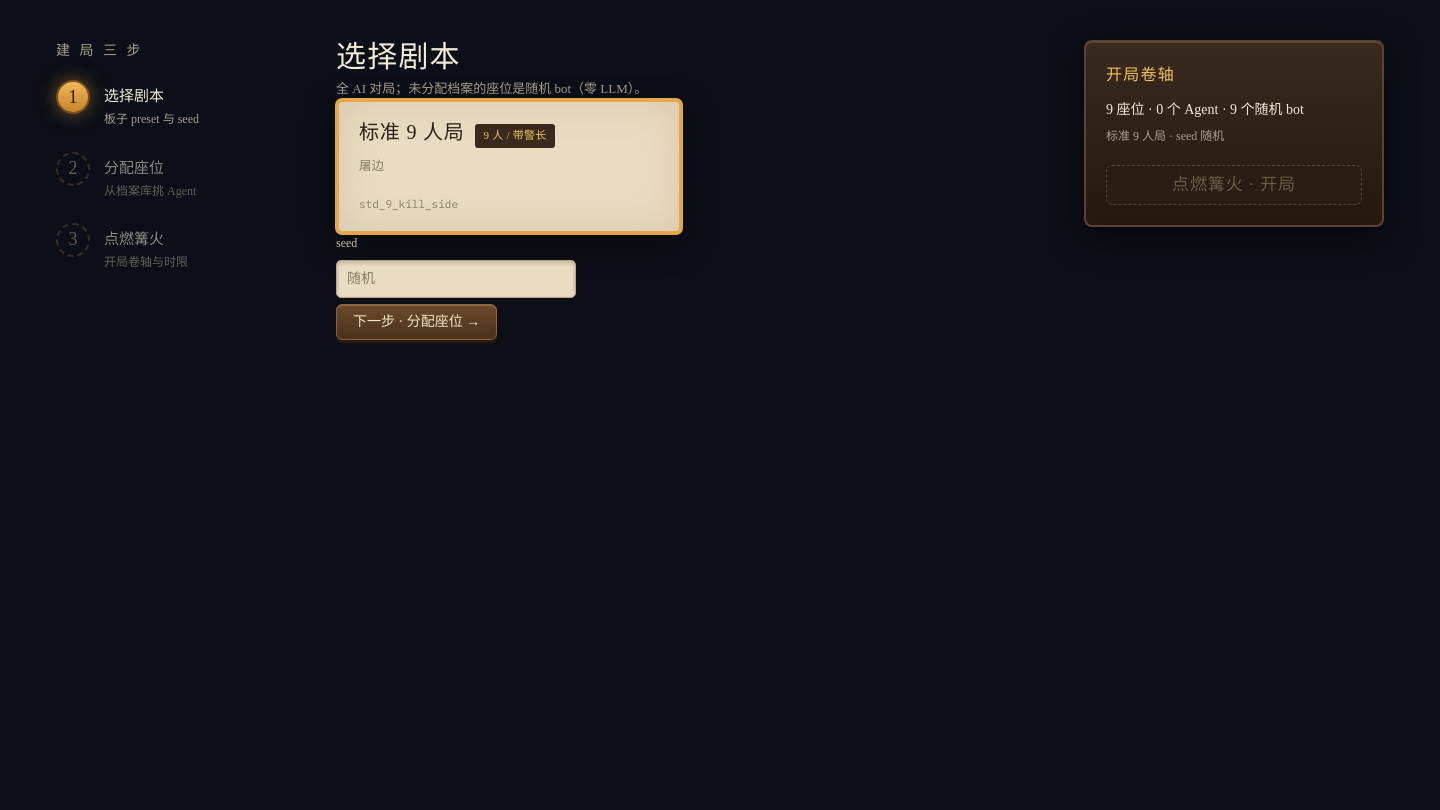
Scenario: Lobby 我自己入座（issue #115） › 失败后「点燃篝火 · 开局」禁用，删除后恢复
The width and height of the screenshot is (1440, 810).
Expected: the heading "标准 9 人局" is shown, [359,120,465,144]
Click the button "下一步 · 分配座位 →". click: coordinates (417, 322)
box: [336,304,497,340]
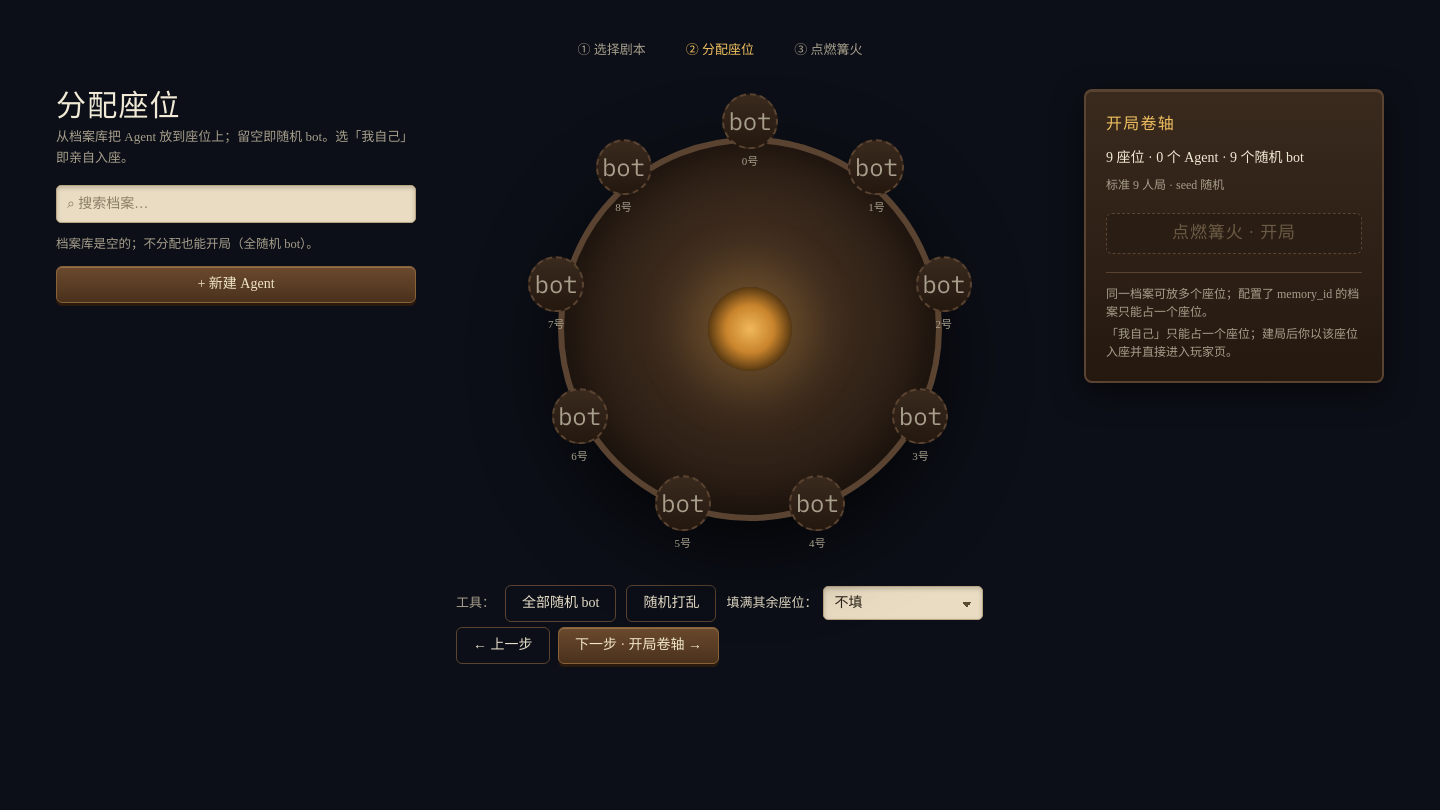
Click the button with aria-label "入座 3号". click: coordinates (920, 427)
box: [884,388,956,466]
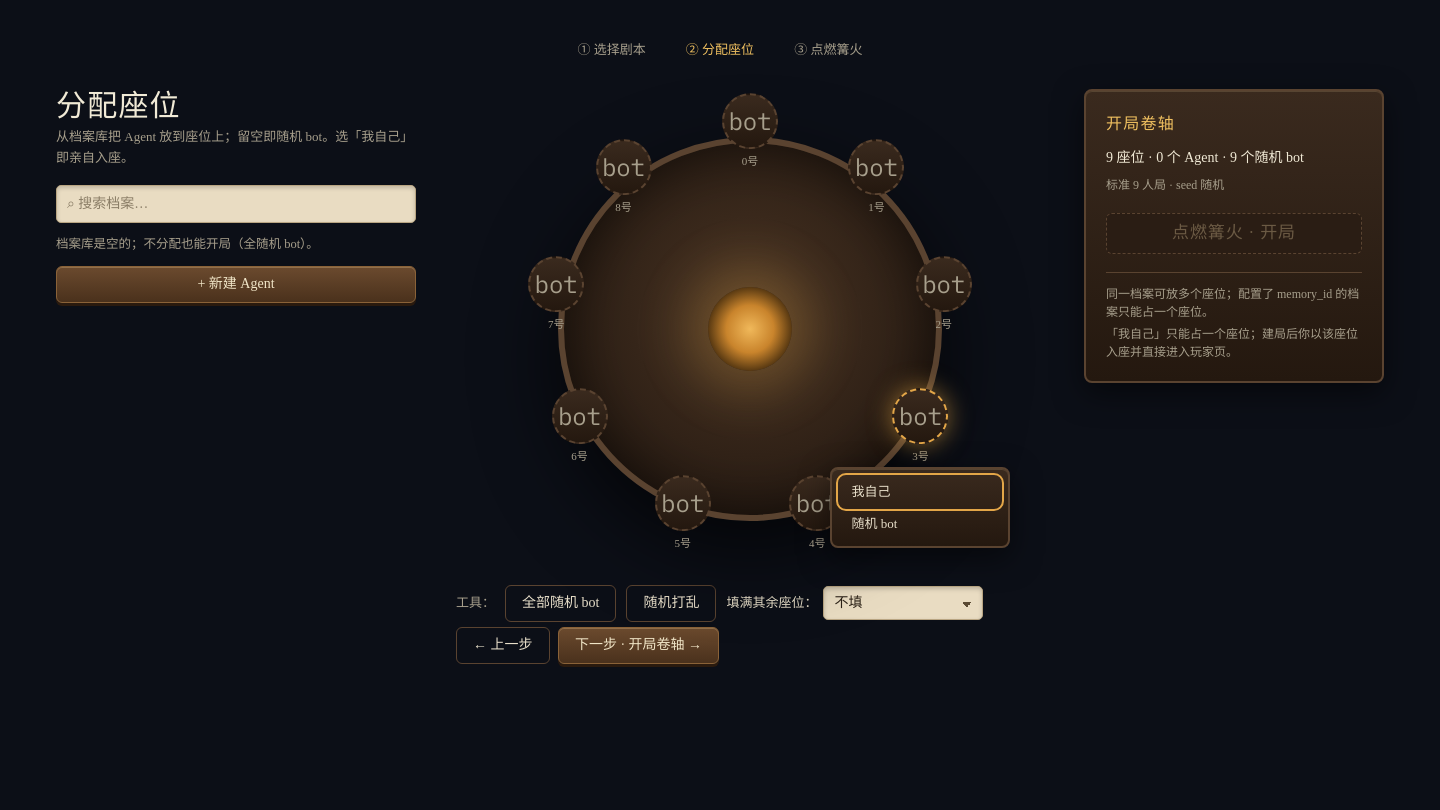
Click the menu item "我自己". click: coordinates (920, 492)
box: [840,477,1000,507]
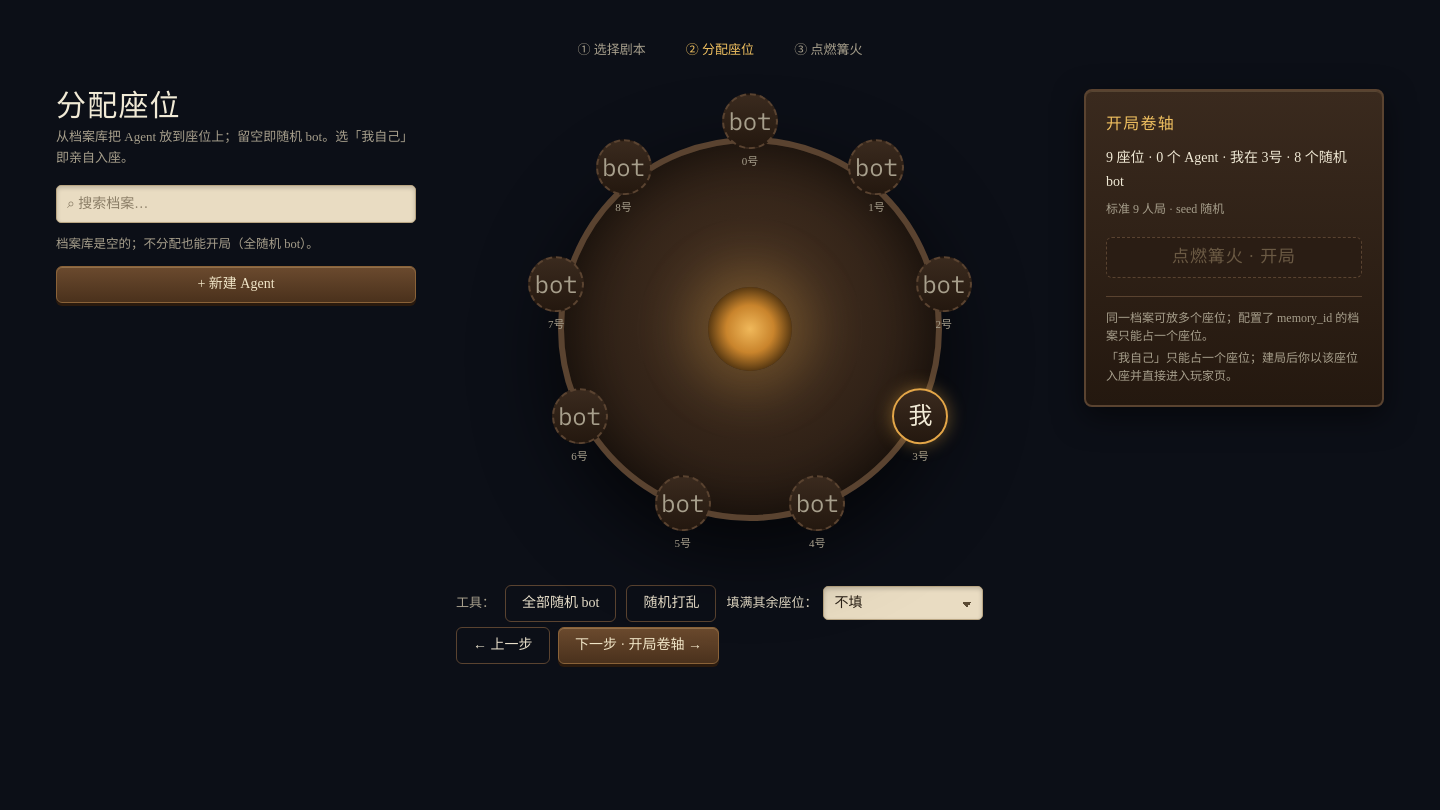
Click the button "下一步 · 开局卷轴 →". click: coordinates (638, 646)
box: [558,627,719,664]
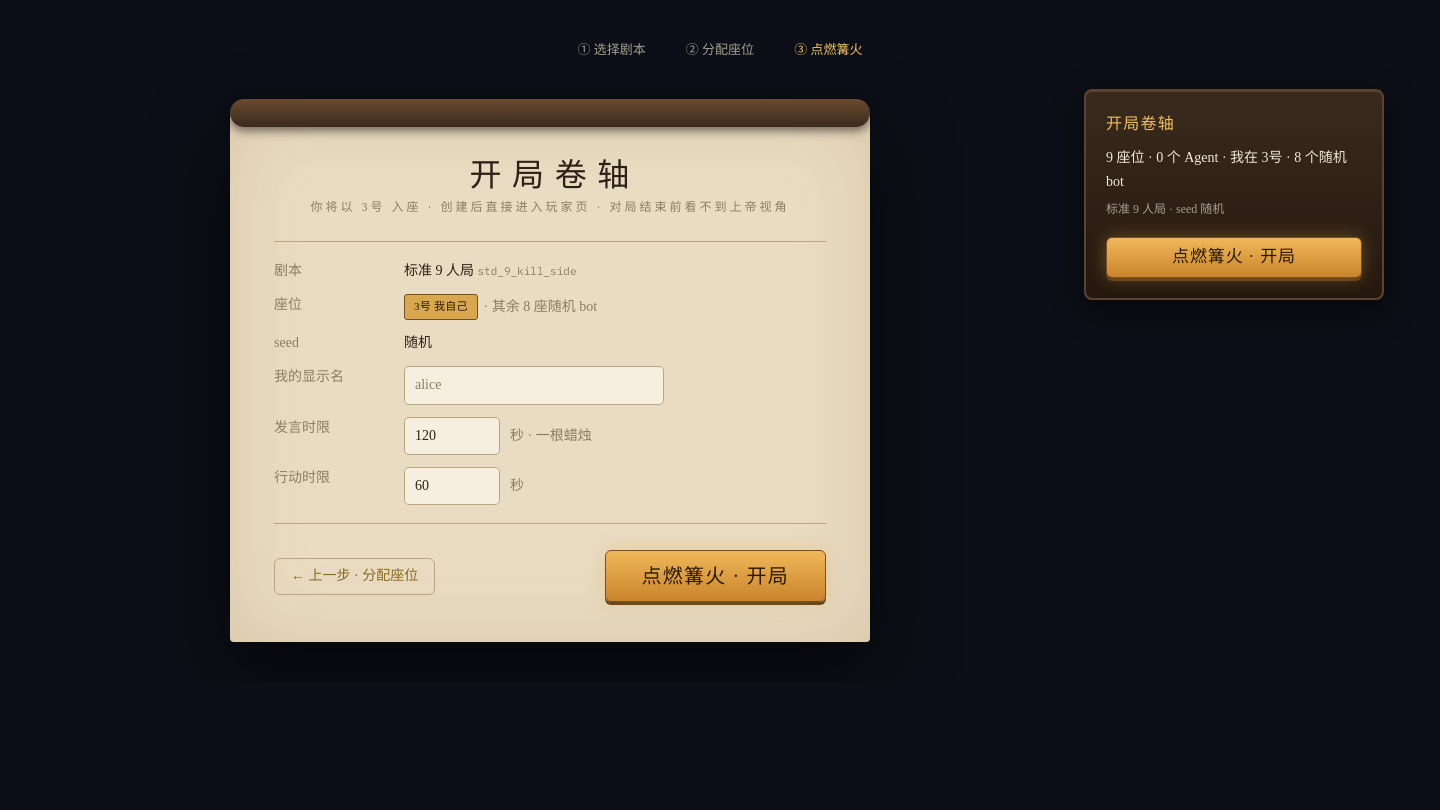
Click the button "点燃篝火 · 开局" below "秒 · 一根蜡烛". click: coordinates (715, 576)
box: [604,550,826,602]
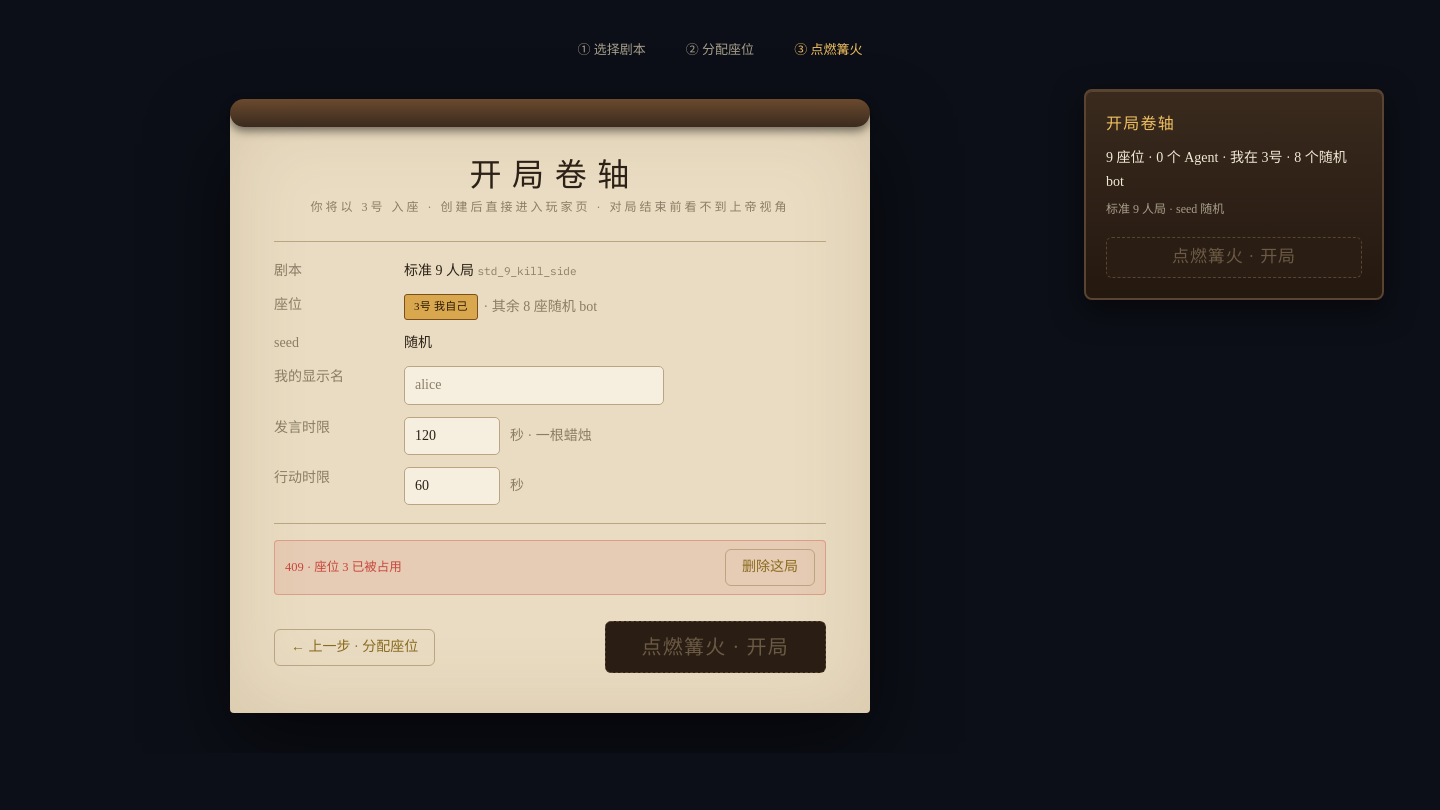
Expected: the text "409 · 座位 3 已被占用" is shown, [285,558,402,577]
Expected: the button "点燃篝火 · 开局" below "409 · 座位 3 已被占用" is disabled, [604,621,826,673]
Expected: the button "点燃篝火 · 开局" below "标准 9 人局 · seed 随机" is disabled, [1106,237,1362,278]
Click the button "删除这局". click: coordinates (770, 568)
box: [725,549,815,586]
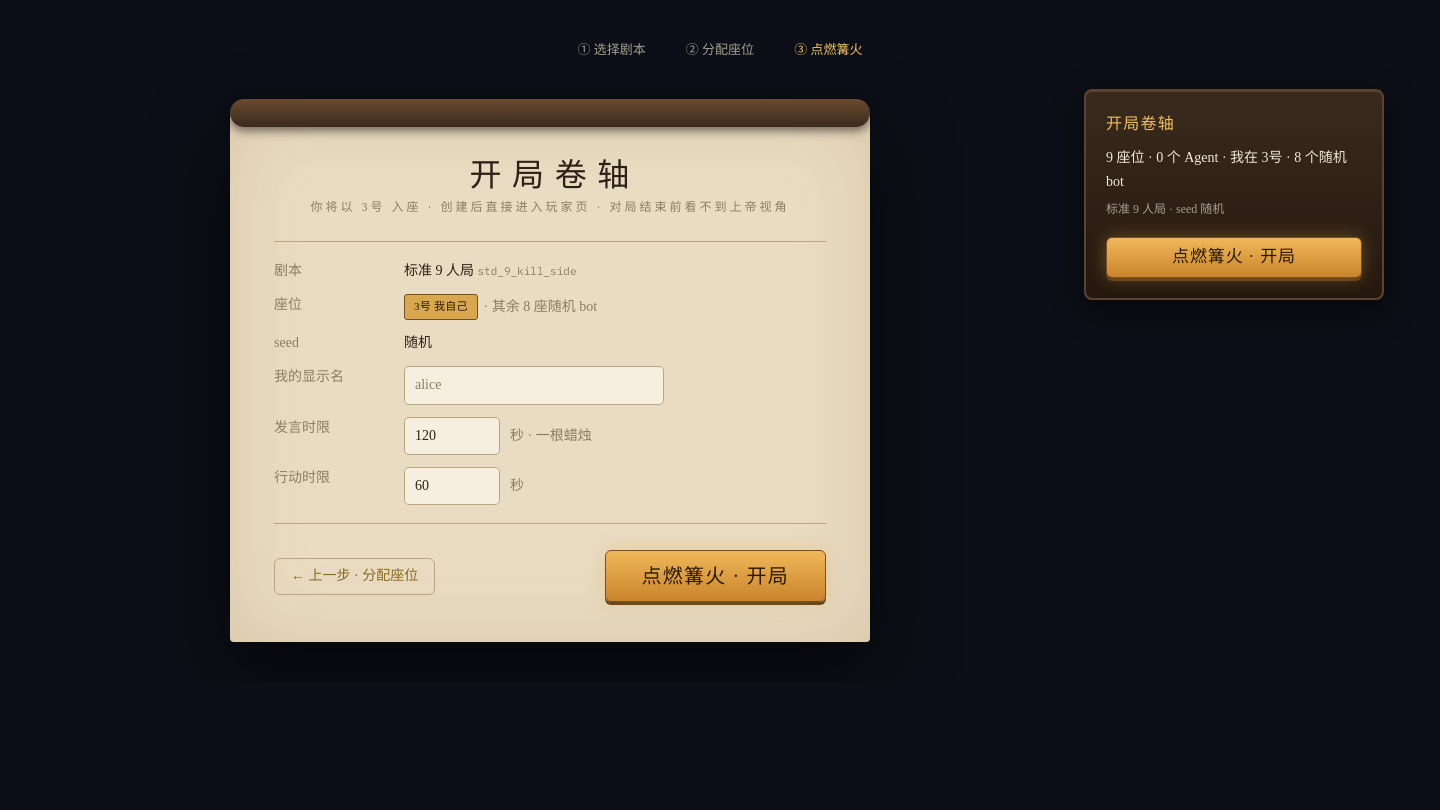
Expected: the button "删除这局" is gone
Expected: the button "点燃篝火 · 开局" below "秒 · 一根蜡烛" is enabled, [604,550,826,602]
Expected: the button "点燃篝火 · 开局" below "标准 9 人局 · seed 随机" is enabled, [1106,237,1362,278]
